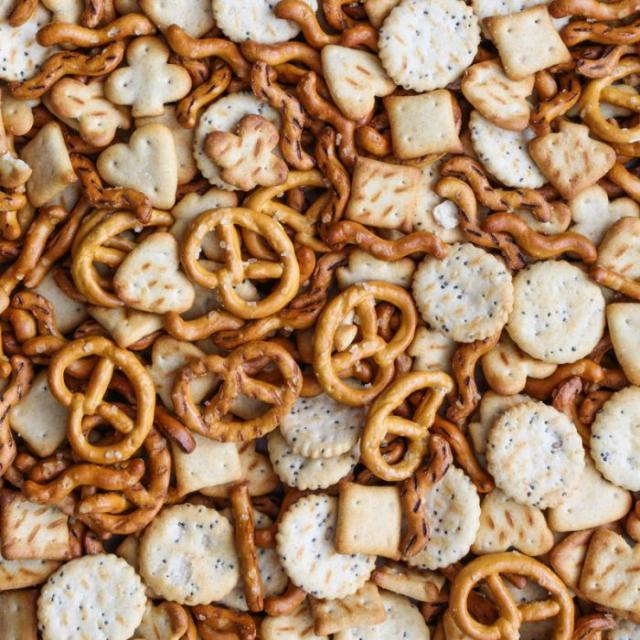Salatini: (5, 1, 637, 639)
